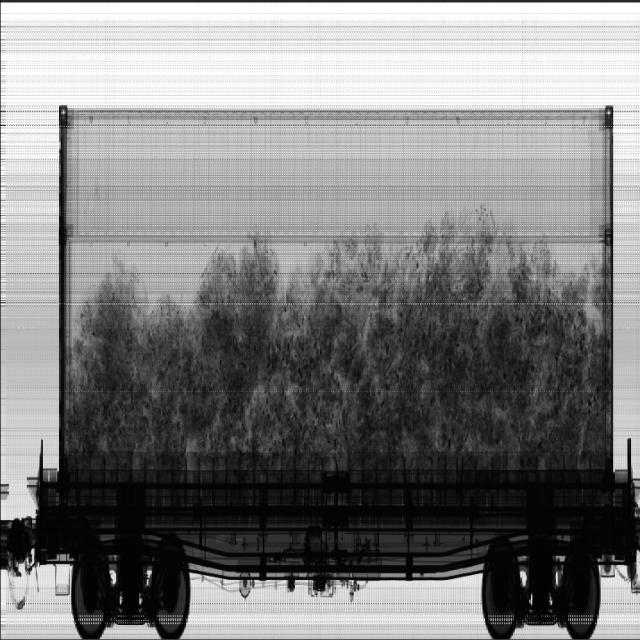textiles: (64, 200, 608, 467)
